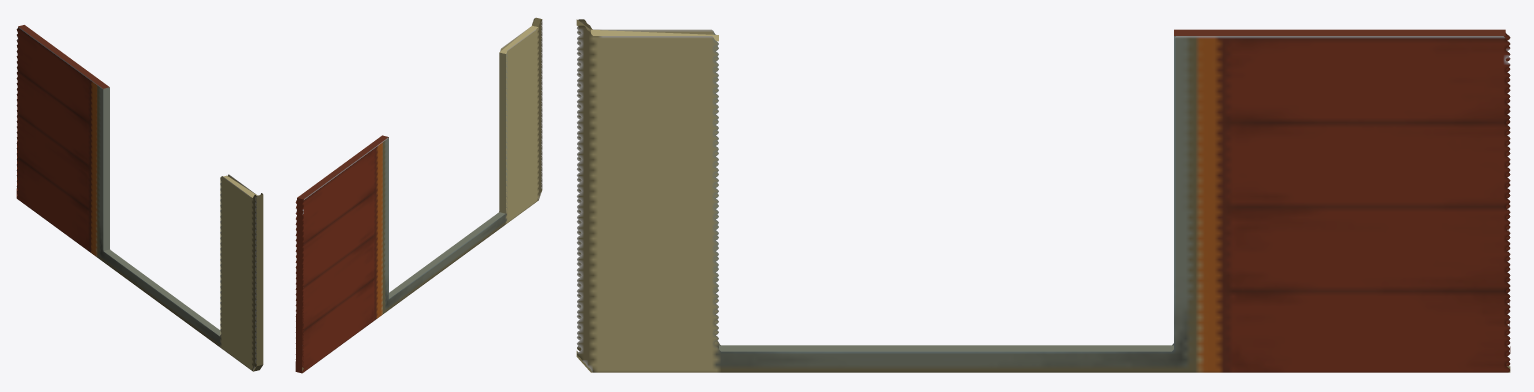
File: pz_native_location_restaurant_spiffos_01_14_frame.obj
3 renders of one model, left to right at view 1: azimuth 30°, elevation 25°; view 2: azimuth 150°, elevation 25°; view 3: azimuth 270°, elevation 25°, orthographic. The views are drawn at different scales.
Parts seen in each view (by area): view 1: pz_native_location_restaurant_spiffos_01_14_frame; view 2: pz_native_location_restaurant_spiffos_01_14_frame; view 3: pz_native_location_restaurant_spiffos_01_14_frame.
Part boxes in pixels (bbox=[...]): pz_native_location_restaurant_spiffos_01_14_frame: bbox=[16, 25, 263, 371]; pz_native_location_restaurant_spiffos_01_14_frame: bbox=[295, 17, 542, 373]; pz_native_location_restaurant_spiffos_01_14_frame: bbox=[576, 19, 1510, 372].
Size of the model in its own units: 0.04 by 1.06 by 2.55.
1 material, 1 textured.
